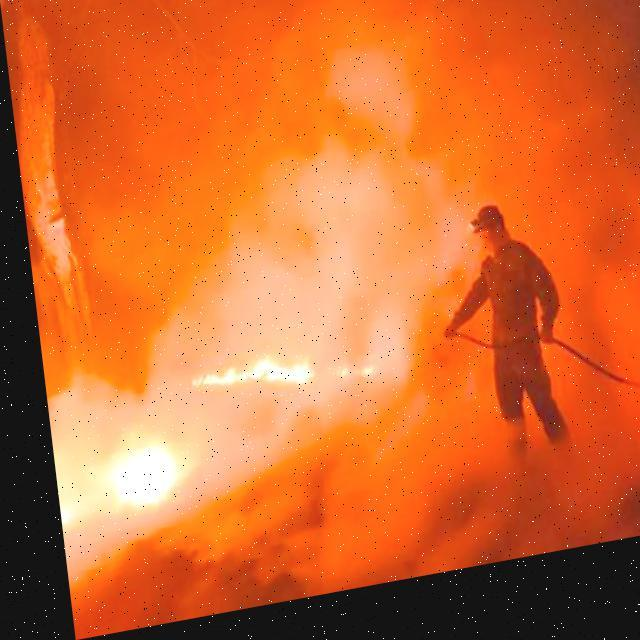Fire: (176, 337, 374, 425), (44, 440, 177, 524)
